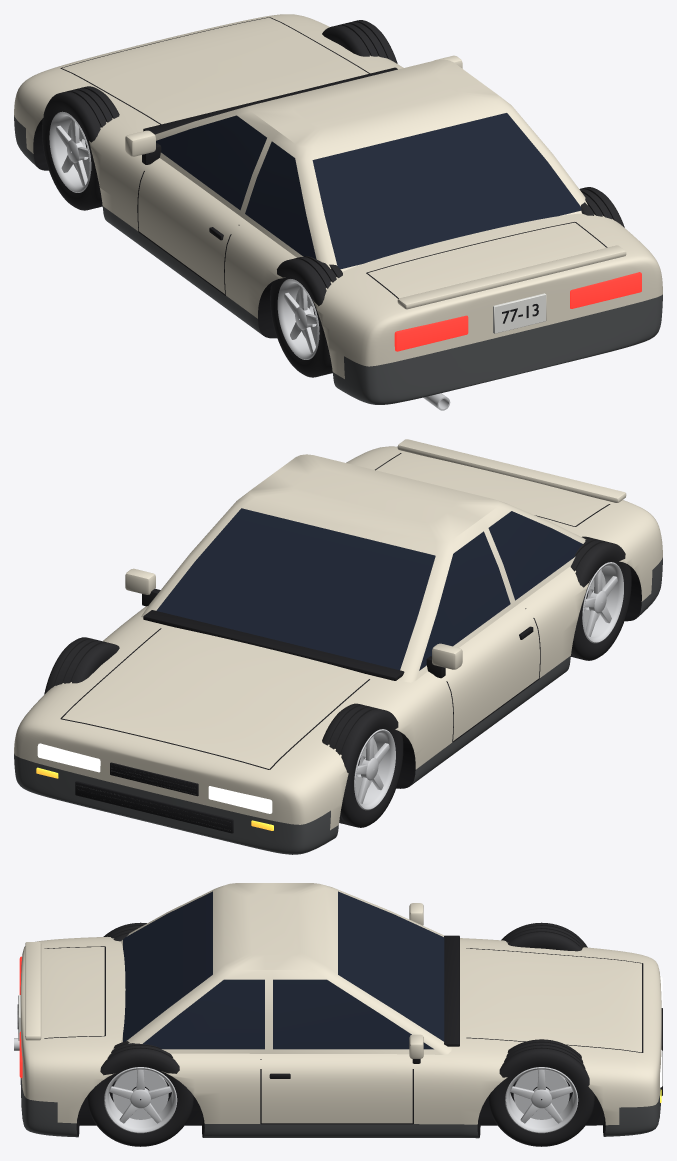
The model's file is coupe.glb.
3 views of the same model, one above another, from view 1: azimuth 30°, elevation 25°; view 2: azimuth 150°, elevation 25°; view 3: azimuth 270°, elevation 25° (orthographic). The views are drawn at different scales.
Visible parts, largest first — view 1: Body_Paint, Body_Glass, Body_Graphite, Wheel_FL_Mesh, Wheel_RL_Mesh, Body_Black, Body_TailLamp, Wheel_FR_Mesh, Body_Plate, Wheel_RR_Mesh; view 2: Body_Paint, Body_Glass, Body_Graphite, Body_Black, Wheel_FL_Mesh, Wheel_RL_Mesh, Wheel_FR_Mesh, Body_HeadLens; view 3: Body_Paint, Body_Glass, Wheel_FR_Mesh, Wheel_RR_Mesh, Body_Graphite, Body_Black, Wheel_FL_Mesh.
Part boxes in pixels (bbox=[...]): Body_Paint: bbox=[14, 14, 662, 378]; Body_Glass: bbox=[156, 113, 581, 269]; Body_Graphite: bbox=[14, 115, 662, 404]; Wheel_FL_Mesh: bbox=[42, 86, 119, 210]; Wheel_RL_Mesh: bbox=[270, 256, 342, 377]; Body_Black: bbox=[33, 17, 607, 338]; Body_TailLamp: bbox=[394, 272, 641, 351]; Wheel_FR_Mesh: bbox=[322, 20, 397, 63]; Body_Plate: bbox=[493, 293, 546, 333]; Wheel_RR_Mesh: bbox=[579, 187, 624, 227]; Body_Paint: bbox=[14, 439, 662, 830]; Body_Glass: bbox=[156, 508, 582, 670]; Body_Graphite: bbox=[14, 557, 662, 854]; Body_Black: bbox=[60, 453, 641, 833]; Wheel_FL_Mesh: bbox=[322, 703, 403, 827]; Wheel_RL_Mesh: bbox=[570, 536, 631, 660]; Wheel_FR_Mesh: bbox=[44, 637, 119, 694]; Body_HeadLens: bbox=[37, 743, 272, 813]; Body_Paint: bbox=[20, 883, 661, 1125]; Body_Glass: bbox=[123, 891, 444, 1049]; Wheel_FR_Mesh: bbox=[488, 1039, 594, 1146]; Wheel_RR_Mesh: bbox=[87, 1041, 193, 1146]; Body_Graphite: bbox=[20, 1078, 660, 1138]; Body_Black: bbox=[17, 935, 662, 1137]; Wheel_FL_Mesh: bbox=[501, 922, 587, 951].
Bounding box in the file's own units: 2.1 × 1.1 × 4.05.
